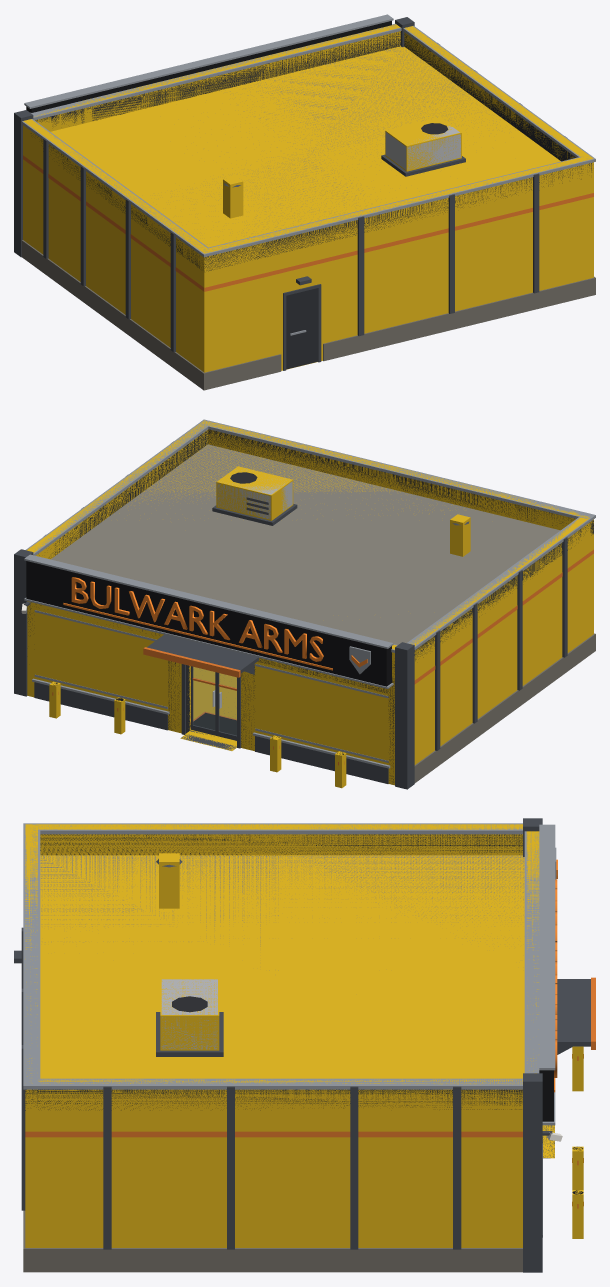
File: shop_guns.glb
The picture shows the model from 3 angles, top to bottom: view 1: azimuth 30°, elevation 25°; view 2: azimuth 150°, elevation 25°; view 3: azimuth 270°, elevation 25°; orthographic projection. The views are drawn at different scales.
Parts seen in each view (by area): view 1: shop_guns__col, shop_guns__shell; view 2: shop_guns__shell, shop_guns__col, shop_guns__door_r, shop_guns__door_l, shop_guns__fixtures; view 3: shop_guns__col, shop_guns__shell.
Part boxes in pixels (x1,y1,x2,y2): shop_guns__col: (23, 24, 593, 372); shop_guns__shell: (14, 14, 595, 390); shop_guns__shell: (14, 419, 595, 789); shop_guns__col: (27, 420, 593, 788); shop_guns__door_r: (191, 666, 216, 735); shop_guns__door_l: (217, 672, 236, 740); shop_guns__fixtures: (190, 712, 236, 735); shop_guns__col: (25, 824, 583, 1247); shop_guns__shell: (14, 818, 595, 1272).
Size of the model in its own units: 12.14 by 4.45 by 11.32.
3 materials, 2 textured.
